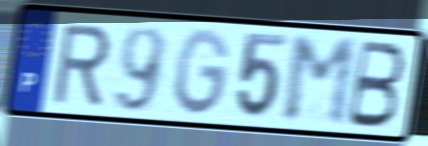5: (234, 29, 291, 122)
9: (110, 23, 173, 114)
B: (343, 37, 408, 131)
G: (172, 25, 233, 120)
M: (280, 35, 359, 130)
R: (49, 22, 113, 107)
